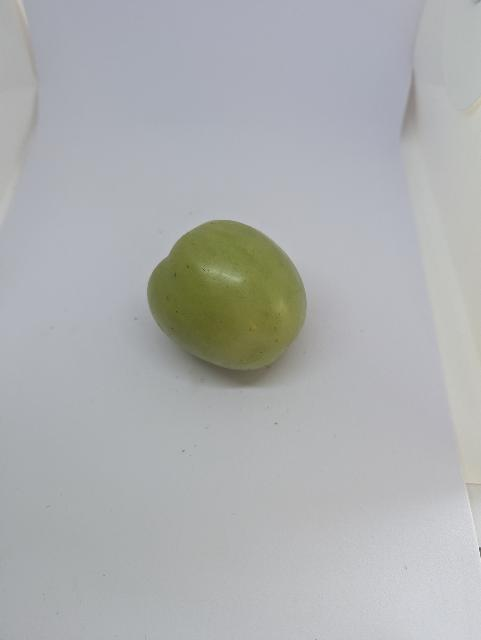green: (129, 205, 314, 395)
